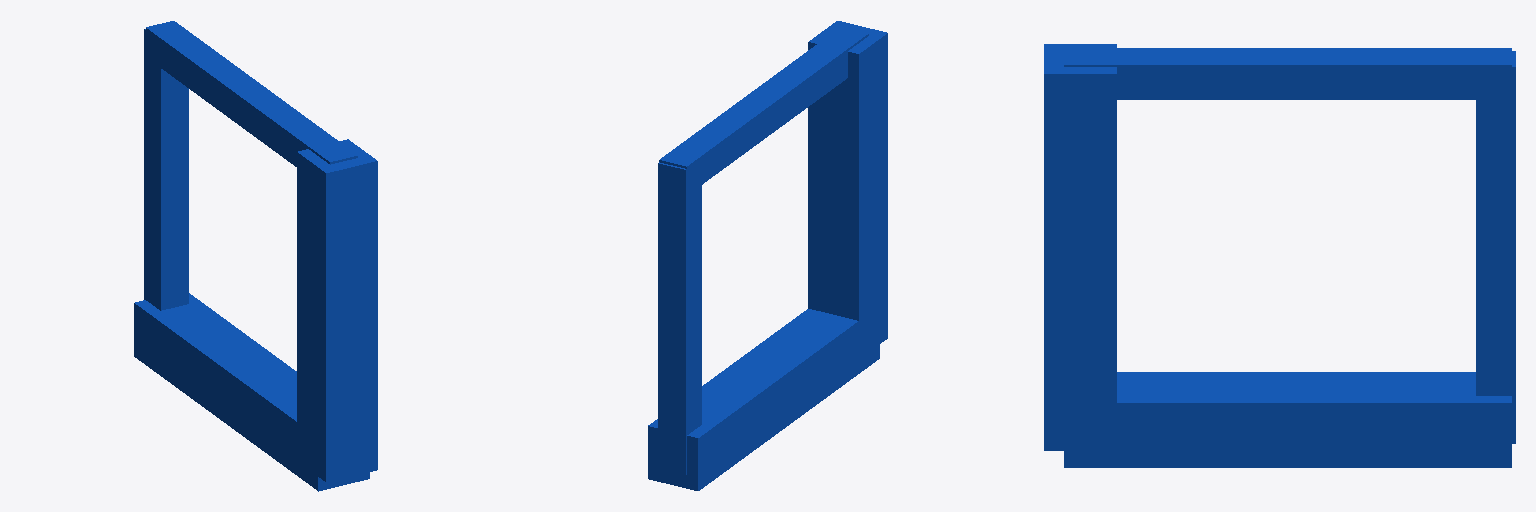
URDF robot description (gate_scale_046):
<?xml version="1.0" ?>
<robot name="gate_scale_046">
  <material name="gate_material">
    <color rgba="0.1 0.4 0.8 1.0"/>
  </material>
  <link name="base_link"/>
  <link name="left_post">
    <visual>
      <origin xyz="0.000 0.000 0.575" rpy="0 0 0"/>
      <geometry>
        <box size="0.110 0.110 1.150"/>
      </geometry>
      <material name="gate_material"/>
    </visual>
    <collision>
      <origin xyz="0.000 0.000 0.575" rpy="0 0 0"/>
      <geometry>
        <box size="0.110 0.110 1.150"/>
      </geometry>
    </collision>
    <inertial>
      <mass value="10.000"/>
      <inertia ixx="2.0" ixy="0.0" ixz="0.0" iyy="2.0" iyz="0.0" izz="2.0"/>
    </inertial>
  </link>
  <joint name="base_to_left_post" type="fixed">
    <parent link="base_link"/>
    <child link="left_post"/>
    <origin xyz="0.000 0.575 0.000" rpy="0 0 0"/>
  </joint>
  <link name="right_post">
    <visual>
      <origin xyz="0.000 0.000 0.575" rpy="0 0 0"/>
      <geometry>
      <box size="0.200 0.200 1.150"/>
      </geometry>
      <material name="gate_material"/>
    </visual>
    <collision>
      <origin xyz="0.000 0.000 0.575" rpy="0 0 0"/>
      <geometry>
        <box size="0.200 0.200 1.150"/>
      </geometry>
    </collision>
    <inertial>
      <mass value="10.000"/>
      <inertia ixx="2.0" ixy="0.0" ixz="0.0" iyy="2.0" iyz="0.0" izz="2.0"/>
    </inertial>
  </link>
  <joint name="base_to_right_post" type="fixed">
    <parent link="base_link"/>
    <child link="right_post"/>
    <origin xyz="0.000 -0.575 0.000" rpy="0 0 0"/>
  </joint>
  <link name="top_bar">
    <visual>
      <origin xyz="0.000 0.000 0.000" rpy="0 0 0"/>
      <geometry>
        <box size="0.110 1.242 0.110"/>
      </geometry>
      <material name="gate_material"/>
    </visual>
    <collision>
      <origin xyz="0.000 0.000 0.000" rpy="0 0 0"/>
      <geometry>
        <box size="0.110 1.242 0.110"/>
      </geometry>
    </collision>
    <inertial>
      <mass value="10.000"/>
      <inertia ixx="2.0" ixy="0.0" ixz="0.0" iyy="2.0" iyz="0.0" izz="2.0"/>
    </inertial>
  </link>
  <joint name="base_to_top_bar" type="fixed">
    <parent link="base_link"/>
    <child link="top_bar"/>
    <origin xyz="0.000 0.000 1.104" rpy="0 0 0"/>
  </joint>
  <link name="bottom_bar">
    <visual>
      <origin xyz="0.000 0.000 0.000" rpy="0 0 0"/>
      <geometry>
        <box size="0.200 1.242 0.200"/>
      </geometry>
      <material name="gate_material"/>
    </visual>
    <collision>
      <origin xyz="0.000 0.000 0.000" rpy="0 0 0"/>
      <geometry>
        <box size="0.200 1.242 0.200"/>
      </geometry>
    </collision>
    <inertial>
      <mass value="10.000"/>
      <inertia ixx="2.0" ixy="0.0" ixz="0.0" iyy="2.0" iyz="0.0" izz="2.0"/>
    </inertial>
  </link>
  <joint name="base_to_bottom_bar" type="fixed">
    <parent link="base_link"/>
    <child link="bottom_bar"/>
    <origin xyz="0.000 0.000 0.046" rpy="0 0 0"/>
  </joint>
</robot> 

--- Render facts (derived) ---
The picture shows the robot from 3 angles, left to right: view 1: azimuth 30°, elevation 25°; view 2: azimuth 150°, elevation 25°; view 3: azimuth 270°, elevation 25°; orthographic projection.
Model gate_scale_046 with 5 links and 4 joints (4 fixed), rooted at base_link, posed all joints at 0.
Links seen in each view (by area): view 1: right_post, bottom_bar, left_post, top_bar; view 2: right_post, bottom_bar, left_post, top_bar; view 3: bottom_bar, right_post, top_bar, left_post.
Boxes of the visible links, x1,y1,x2,y2 form: right_post: (297, 139, 377, 482); bottom_bar: (134, 293, 369, 491); left_post: (144, 29, 188, 310); top_bar: (146, 21, 357, 166); right_post: (808, 21, 887, 358); bottom_bar: (648, 306, 879, 490); left_post: (658, 158, 701, 474); top_bar: (659, 27, 868, 193); bottom_bar: (1064, 372, 1511, 467); right_post: (1044, 44, 1116, 450); top_bar: (1064, 48, 1511, 99); left_post: (1476, 51, 1515, 443).
Bounding box of the posed robot: 0.2 × 1.3 × 1.21 m (x, y, z).
Geometry: primitives only (box / cylinder / sphere), no mesh files.
